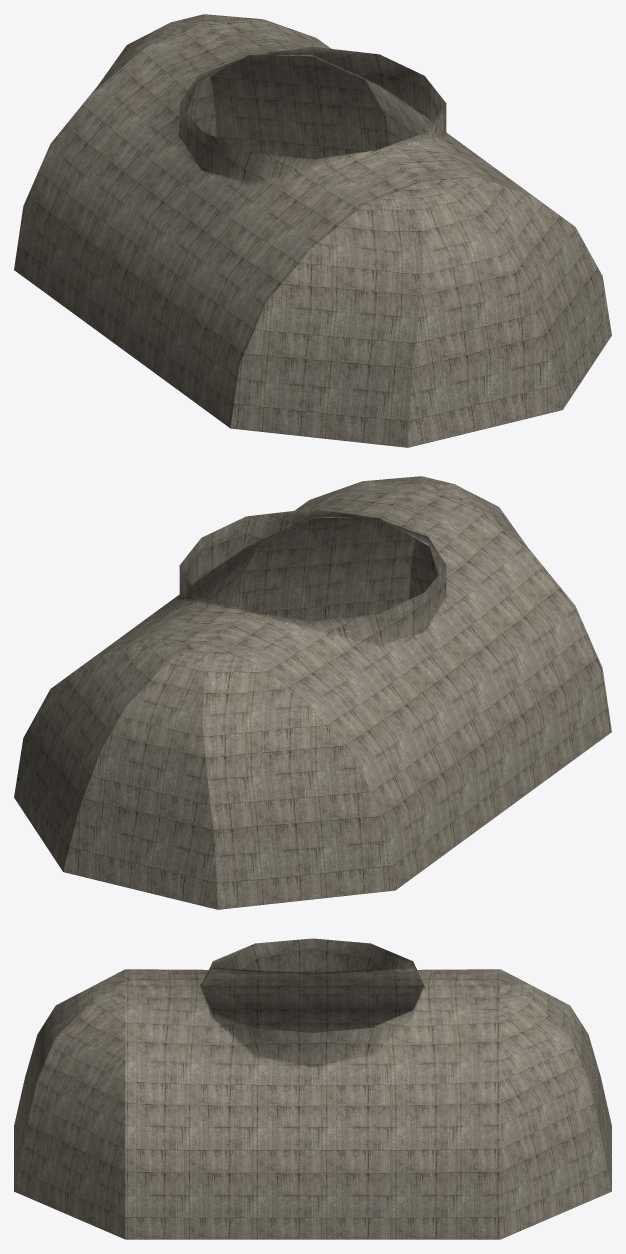
File: 02_07_concrete_arch_roof.dae
3 views of the same model, one above another, from view 1: azimuth 30°, elevation 25°; view 2: azimuth 150°, elevation 25°; view 3: azimuth 270°, elevation 25° (orthographic). The views are drawn at different scales.
Parts seen in each view (by area): view 1: polySurface124; view 2: polySurface124; view 3: polySurface124.
Part boxes in pixels (bbox=[...]): polySurface124: bbox=[14, 14, 611, 447]; polySurface124: bbox=[14, 476, 611, 909]; polySurface124: bbox=[14, 938, 611, 1239].
Bounding box in the file's own units: 29 × 14.5 × 45.4.
